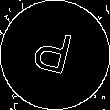P_S: (31, 26, 79, 84)
